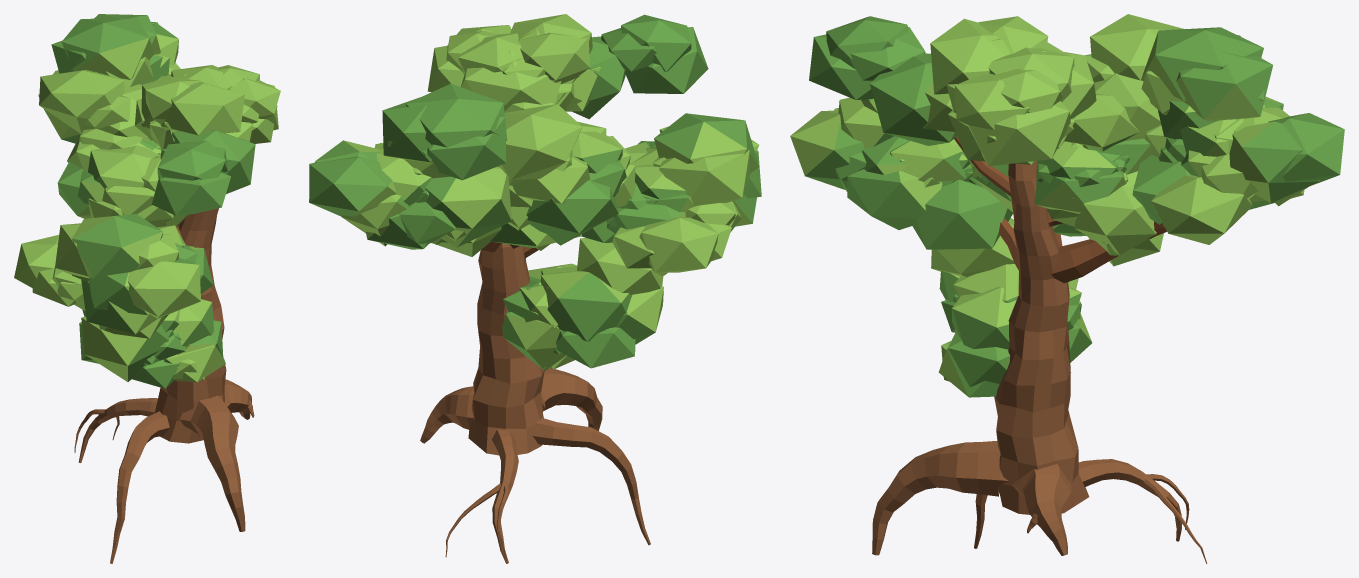
File: tree_a.glb
3 renders of one model, left to right at view 1: azimuth 30°, elevation 25°; view 2: azimuth 150°, elevation 25°; view 3: azimuth 270°, elevation 25°, orthographic. The views are drawn at different scales.
Visible parts, largest first — view 1: BranchLeaves_2, TreeWood, CanopyLeaves, BranchLeaves_0, BranchLeaves_6, BranchLeaves_7, BranchLeaves_3, BranchLeaves_8, BranchLeaves_1, BranchLeaves_5; view 2: BranchLeaves_6, TreeWood, BranchLeaves_2, CanopyLeaves, BranchLeaves_0, BranchLeaves_7, BranchLeaves_1, BranchLeaves_3, BranchLeaves_8, BranchLeaves_5, BranchLeaves_4; view 3: TreeWood, BranchLeaves_6, CanopyLeaves, BranchLeaves_2, BranchLeaves_7, BranchLeaves_0, BranchLeaves_5, BranchLeaves_4, BranchLeaves_8, BranchLeaves_1, Branch.004, BranchLeaves_3.
Boxes of the visible parts, bbox=[...] form: BranchLeaves_2: bbox=[52, 214, 213, 334]; TreeWood: bbox=[74, 208, 254, 563]; CanopyLeaves: bbox=[135, 65, 280, 159]; BranchLeaves_0: bbox=[79, 299, 225, 388]; BranchLeaves_6: bbox=[38, 14, 180, 143]; BranchLeaves_7: bbox=[152, 130, 255, 215]; BranchLeaves_3: bbox=[57, 145, 188, 227]; BranchLeaves_8: bbox=[39, 70, 150, 149]; BranchLeaves_1: bbox=[14, 235, 166, 338]; BranchLeaves_5: bbox=[67, 133, 161, 170]; BranchLeaves_6: bbox=[309, 83, 511, 249]; TreeWood: bbox=[420, 243, 650, 563]; BranchLeaves_2: bbox=[581, 113, 761, 242]; CanopyLeaves: bbox=[427, 14, 600, 112]; BranchLeaves_0: bbox=[502, 263, 663, 370]; BranchLeaves_7: bbox=[572, 14, 708, 119]; BranchLeaves_1: bbox=[577, 217, 731, 294]; BranchLeaves_3: bbox=[490, 121, 635, 250]; BranchLeaves_8: bbox=[498, 104, 582, 185]; BranchLeaves_5: bbox=[508, 156, 589, 230]; BranchLeaves_4: bbox=[431, 226, 501, 256]; TreeWood: bbox=[872, 161, 1207, 563]; BranchLeaves_6: bbox=[1132, 27, 1344, 224]; CanopyLeaves: bbox=[923, 16, 1096, 165]; BranchLeaves_2: bbox=[790, 97, 1012, 249]; BranchLeaves_7: bbox=[809, 16, 956, 145]; BranchLeaves_0: bbox=[938, 264, 1092, 397]; BranchLeaves_5: bbox=[1034, 93, 1151, 226]; BranchLeaves_4: bbox=[1074, 175, 1252, 266]; BranchLeaves_8: bbox=[1085, 14, 1184, 140]; BranchLeaves_1: bbox=[931, 218, 1014, 277]; Branch.004: bbox=[1051, 221, 1166, 283]; BranchLeaves_3: bbox=[963, 152, 1086, 236].
Size of the model in its own units: 6.86 by 11.24 by 9.89.
